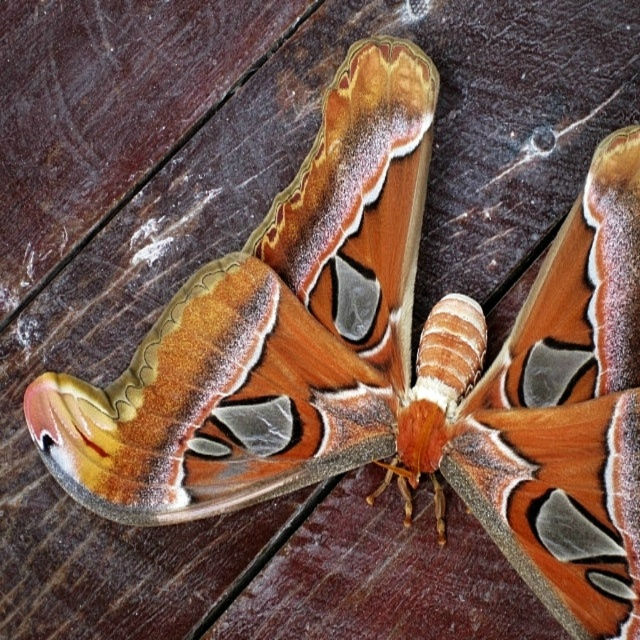Moths and butterflies: (21, 37, 639, 639)
